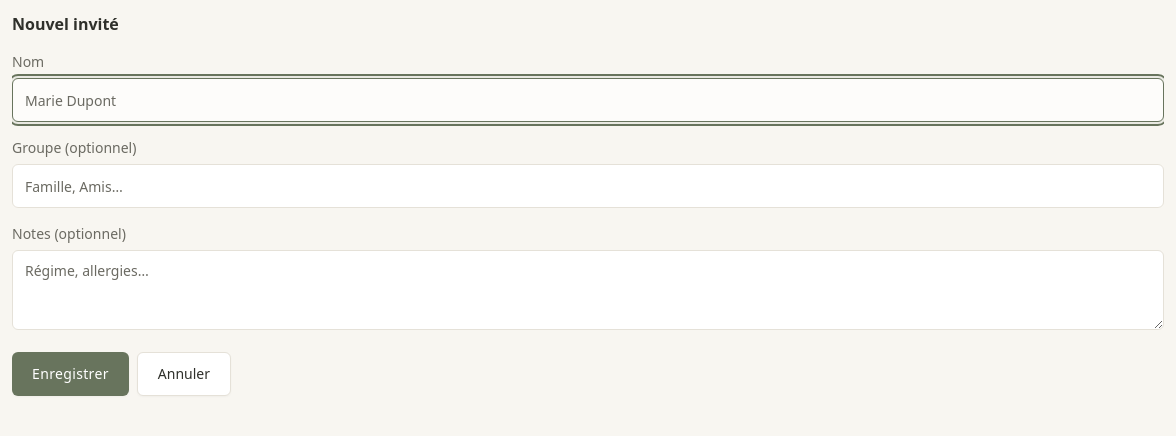
Test case: GuestEditor › creates a guest on submit and closes
This screenshot has width=1176, height=436.
Type "Eve" into the field labelled "Nom" at (588, 100), box 12,78 -> 1164,122
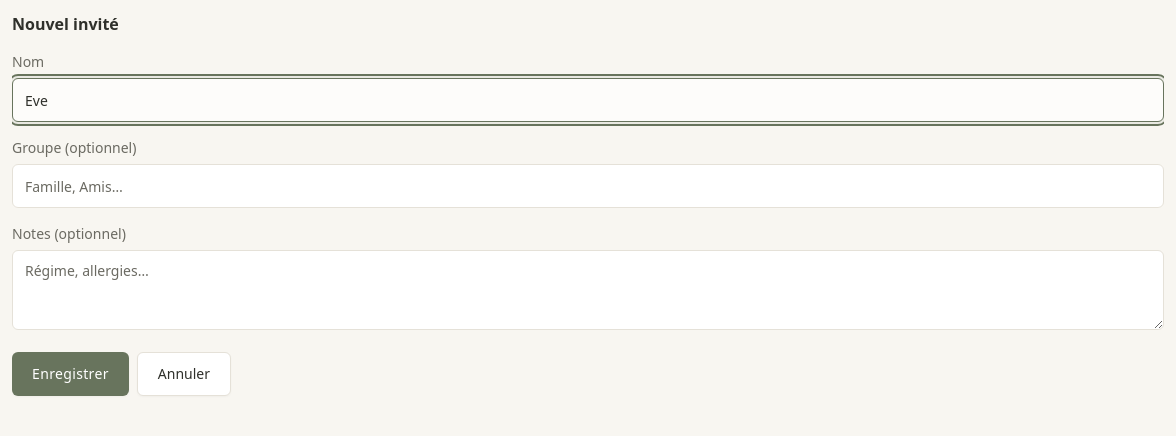
Type "Amis" into the field labelled "Groupe (optionnel)" at (588, 186), box 12,164 -> 1164,208
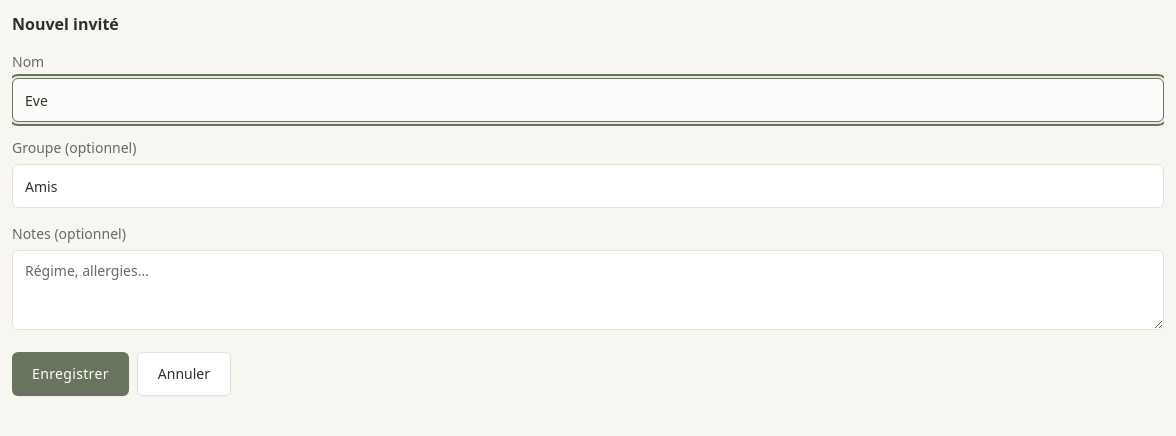
Submit the form
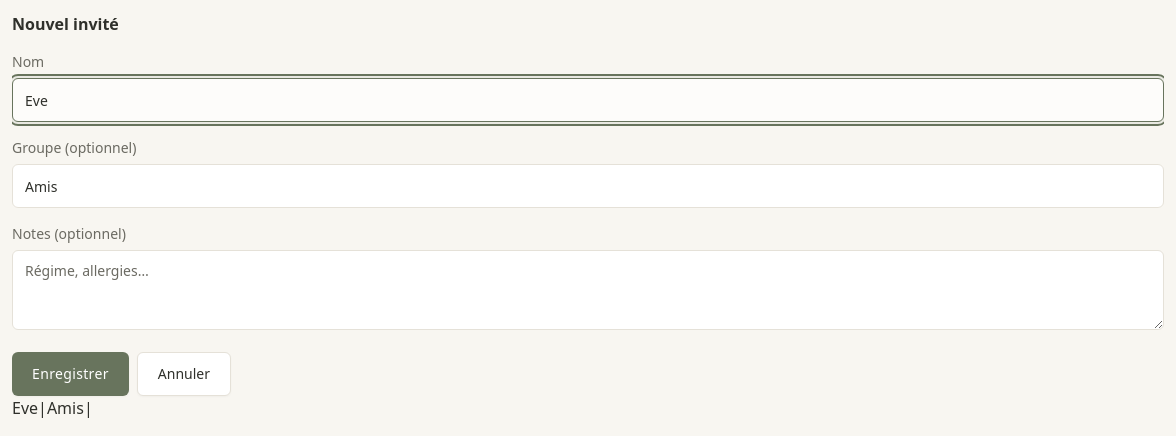
Check: the list with test id "probe" reads "Eve|Amis|", box 12,397 -> 38,419
